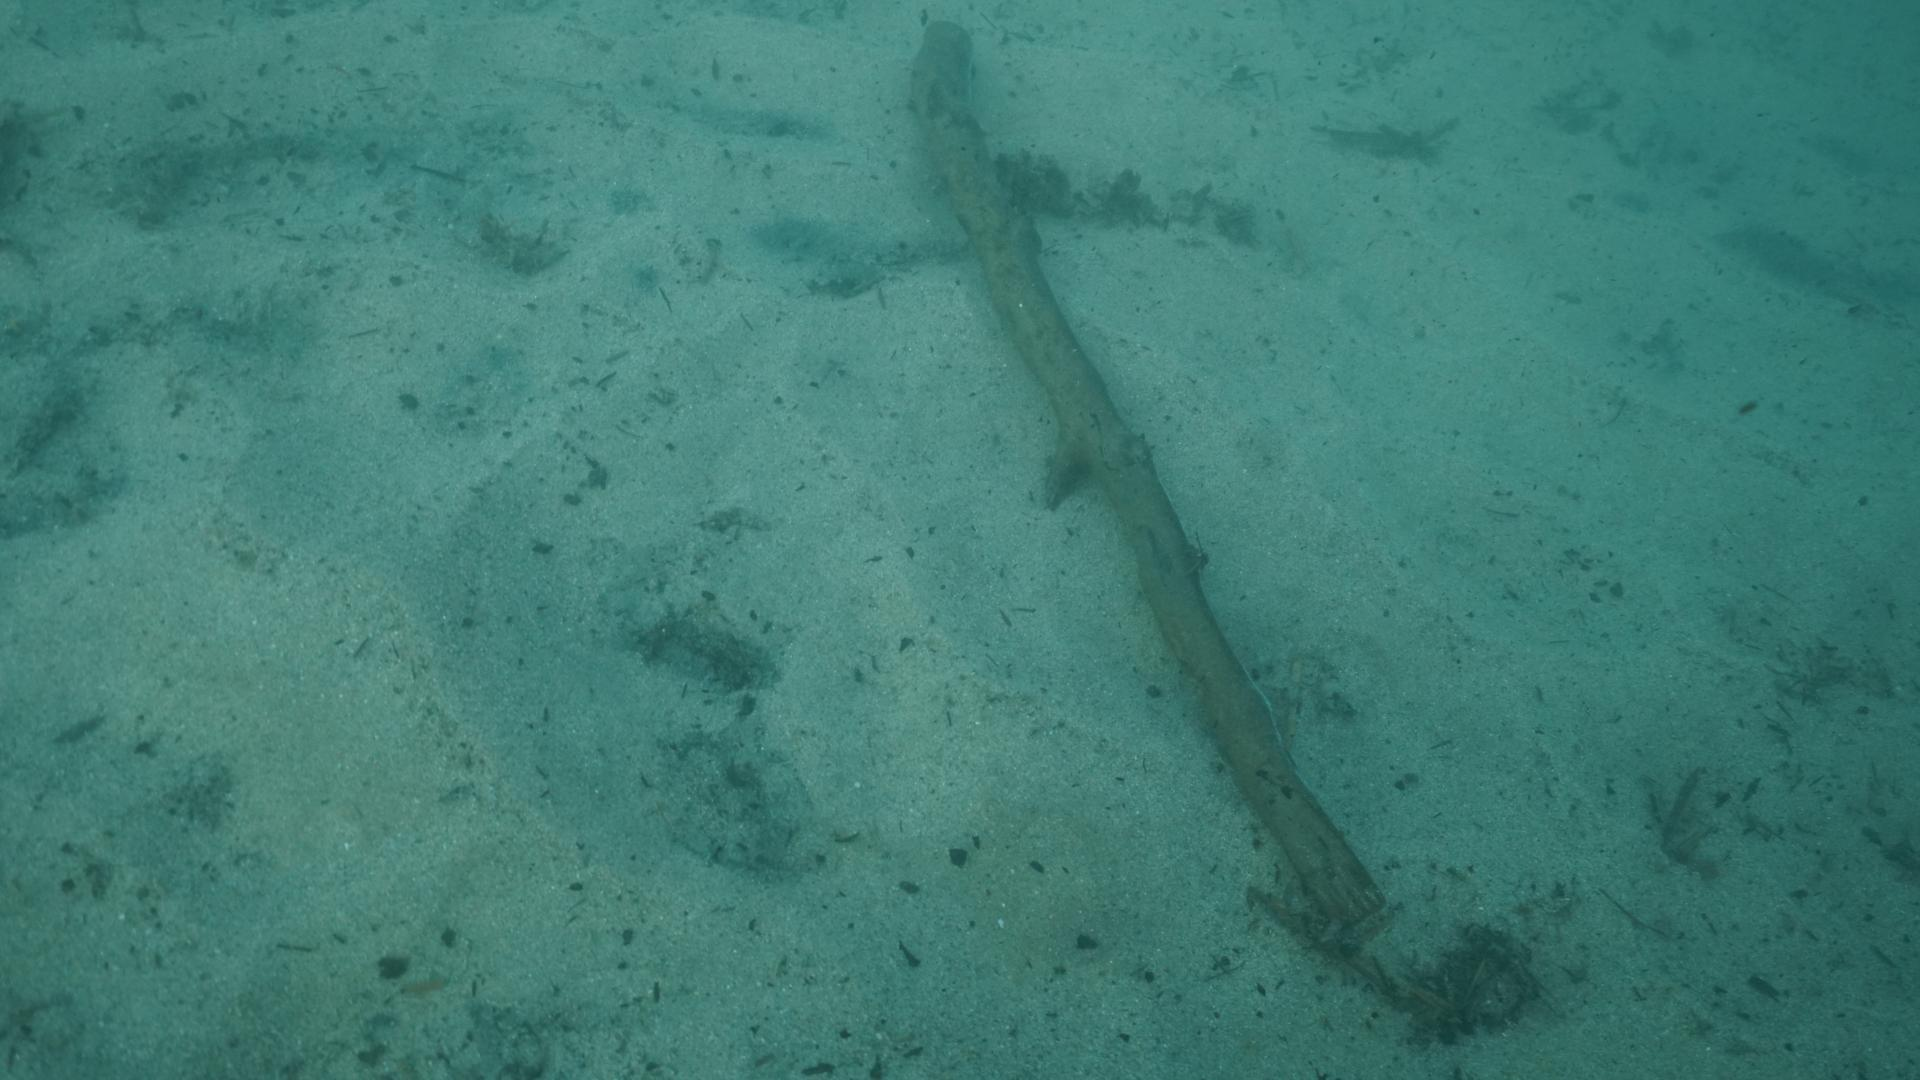wood: (901, 18, 1385, 936)
